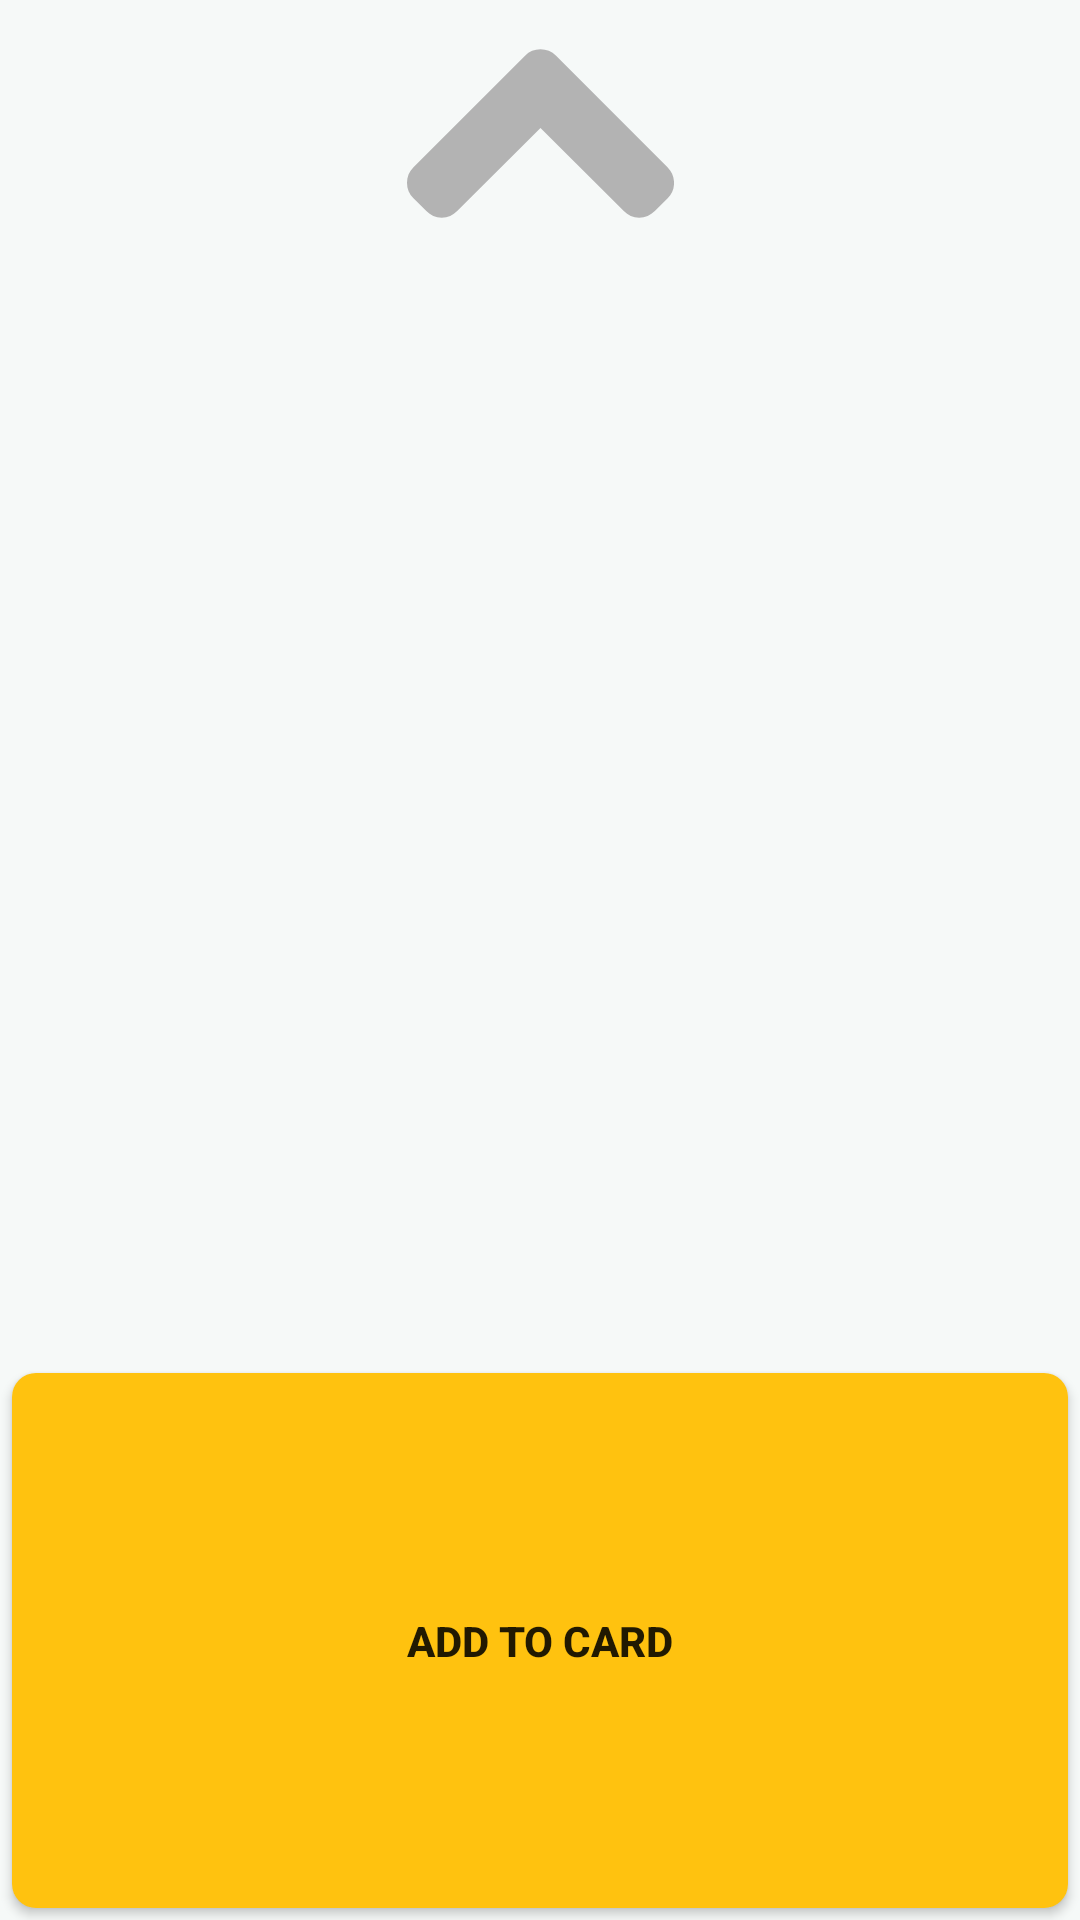

Screen size 1080w x 1920h. Icon name, then its center in pixels as [x,y]:
arrow up: [540,133]
